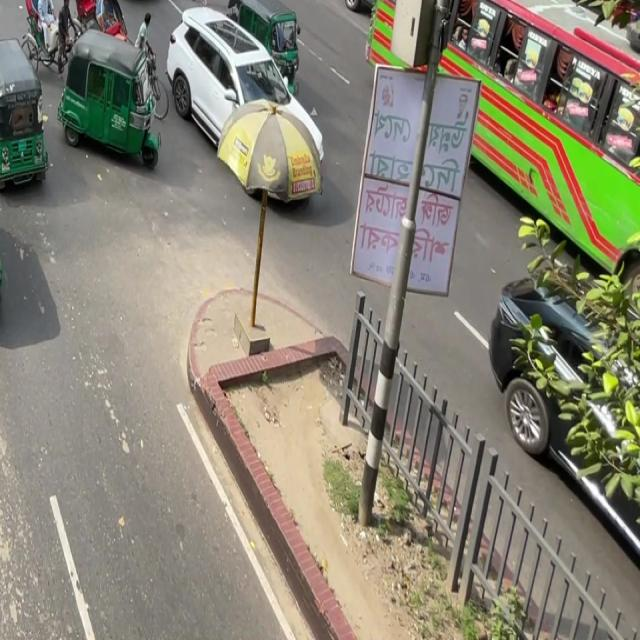car: (157, 0, 307, 147), (77, 0, 169, 1)
rickshaw: (55, 16, 167, 182), (0, 29, 58, 205), (221, 0, 309, 92), (0, 110, 19, 334)
